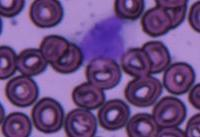M: (80, 14, 129, 63)
